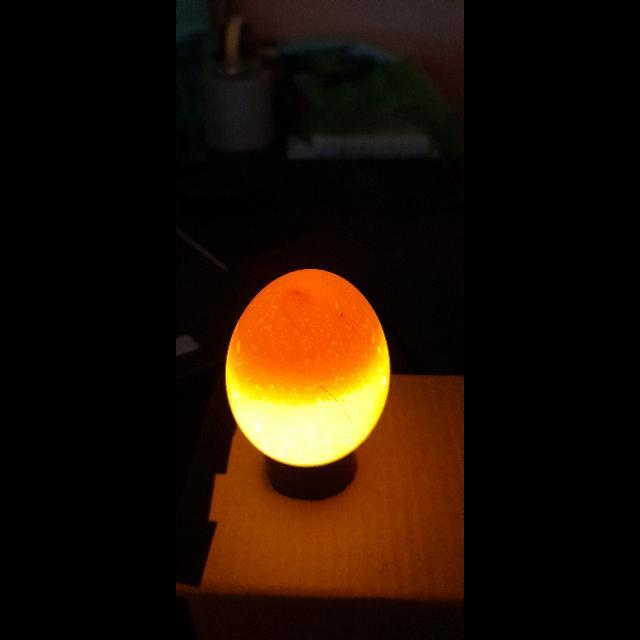Fertile: (227, 266, 389, 478)
